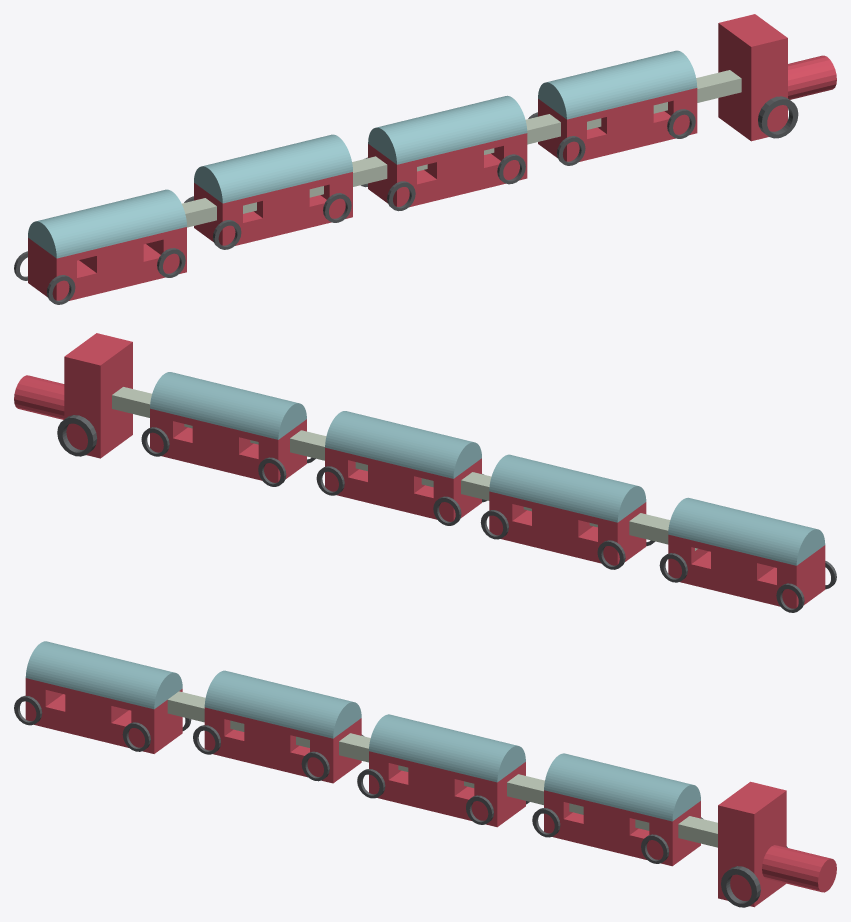
File: Mighty Sango-Jaiks.glb
3 renders of one model, top to bottom at view 1: azimuth 30°, elevation 25°; view 2: azimuth 150°, elevation 25°; view 3: azimuth 330°, elevation 25°, orthographic.
Parts seen in each view (by area): view 1: Mesh_Mesh_head_geo.001_lambert2SG.001; view 2: Mesh_Mesh_head_geo.001_lambert2SG.001; view 3: Mesh_Mesh_head_geo.001_lambert2SG.001.
Boxes of the visible parts, <box> form: Mesh_Mesh_head_geo.001_lambert2SG.001: <box>14,14,836,304</box>; Mesh_Mesh_head_geo.001_lambert2SG.001: <box>14,333,836,612</box>; Mesh_Mesh_head_geo.001_lambert2SG.001: <box>14,641,836,907</box>.
Bounding box in the file's own units: 240 × 27 × 22.
